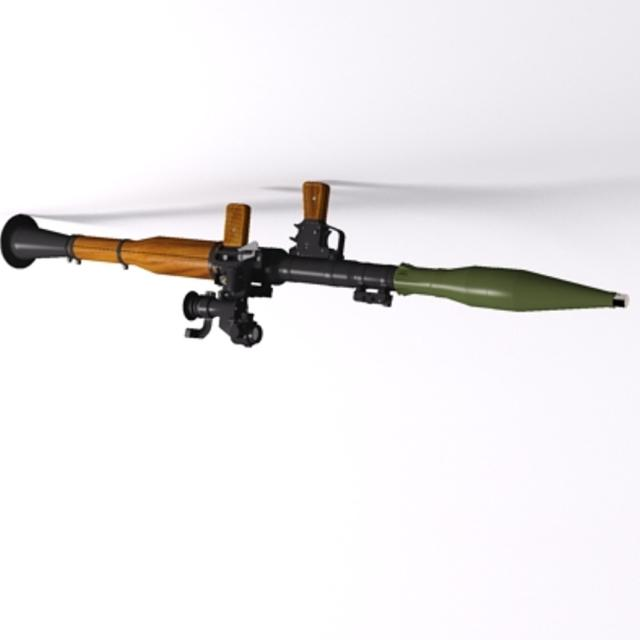Gun: (9, 138, 616, 364)
